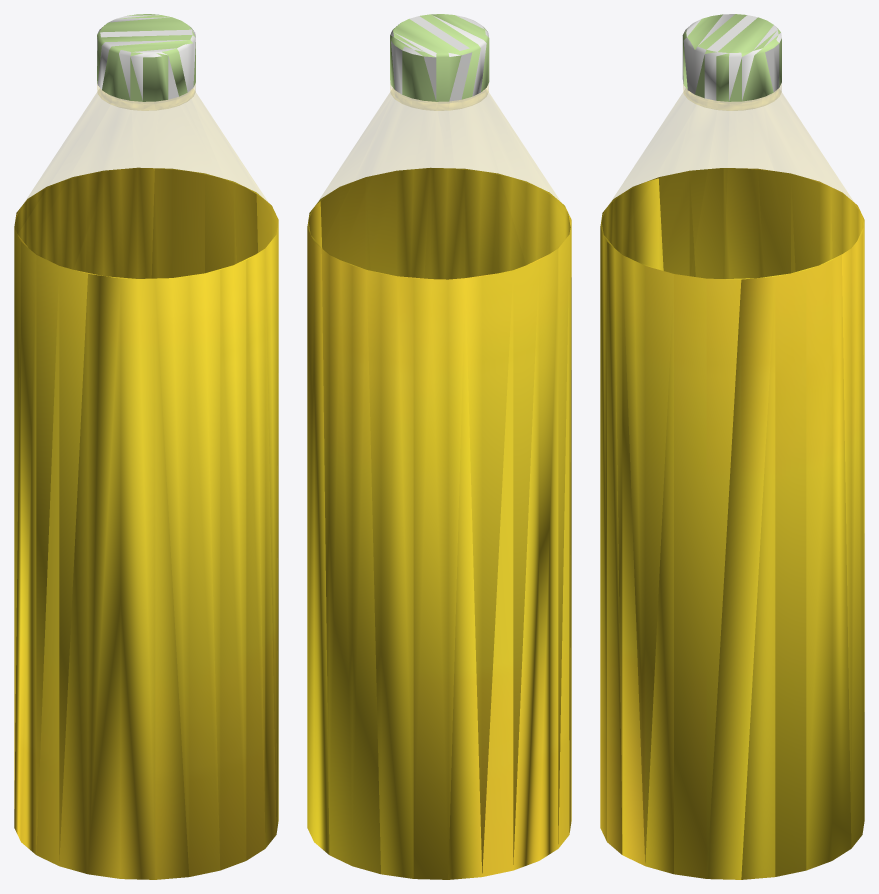
3 views of the same model, side by side, from view 1: azimuth 30°, elevation 25°; view 2: azimuth 150°, elevation 25°; view 3: azimuth 270°, elevation 25° (orthographic).
Parts seen in each view (by area): view 1: new-2, new-1, Cap1/Cap/mesh1/mesh1-geometry#mesh1-geometry, Group1/mesh2/mesh2-geometry#mesh2-geometry; view 2: new-2, new-1, Cap1/Cap/mesh1/mesh1-geometry#mesh1-geometry, Group1/mesh2/mesh2-geometry#mesh2-geometry; view 3: new-2, new-1, Cap1/Cap/mesh1/mesh1-geometry#mesh1-geometry, Group1/mesh2/mesh2-geometry#mesh2-geometry.
Part boxes in pixels (bbox=[...]): new-2: bbox=[14, 167, 278, 879]; new-1: bbox=[23, 89, 273, 210]; Cap1/Cap/mesh1/mesh1-geometry#mesh1-geometry: bbox=[97, 14, 195, 101]; Group1/mesh2/mesh2-geometry#mesh2-geometry: bbox=[97, 84, 195, 110]; new-2: bbox=[307, 167, 571, 879]; new-1: bbox=[316, 89, 564, 207]; Cap1/Cap/mesh1/mesh1-geometry#mesh1-geometry: bbox=[390, 14, 489, 101]; Group1/mesh2/mesh2-geometry#mesh2-geometry: bbox=[390, 84, 488, 110]; new-2: bbox=[600, 168, 864, 879]; new-1: bbox=[609, 89, 857, 207]; Cap1/Cap/mesh1/mesh1-geometry#mesh1-geometry: bbox=[682, 14, 781, 101]; Group1/mesh2/mesh2-geometry#mesh2-geometry: bbox=[683, 84, 781, 110].
Bounding box in the file's own units: 0.5454 × 1.8 × 0.5454.
Materials: 5 (3 with a texture image).
